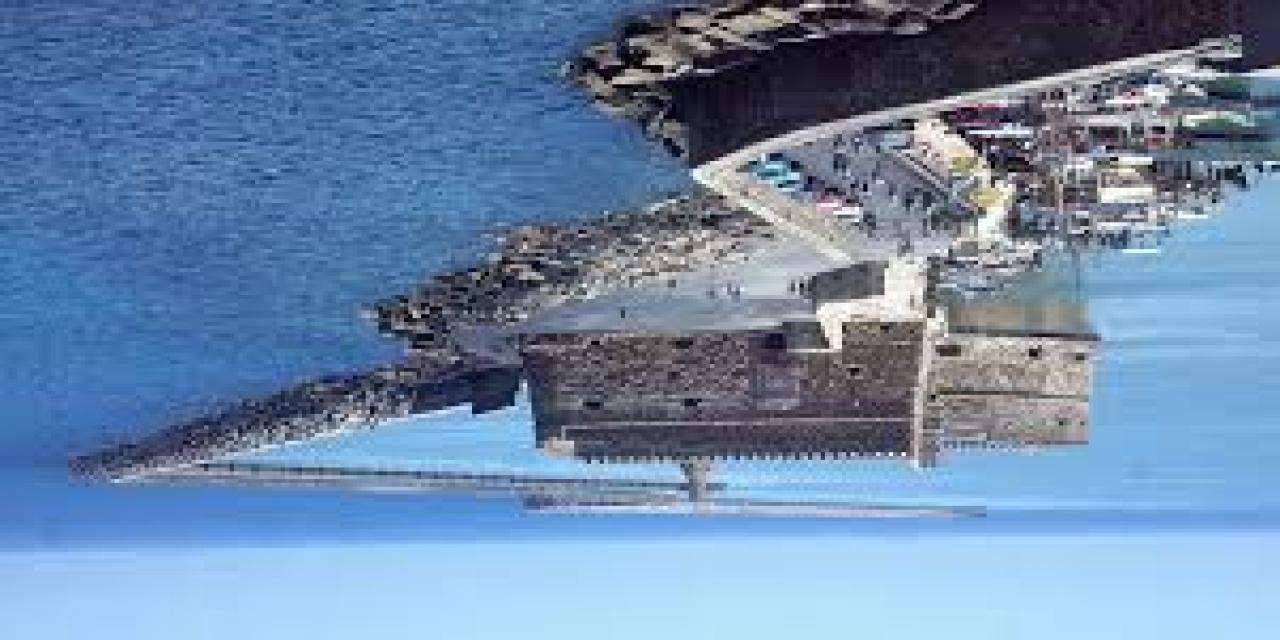Kules: (519, 333, 1105, 497)
